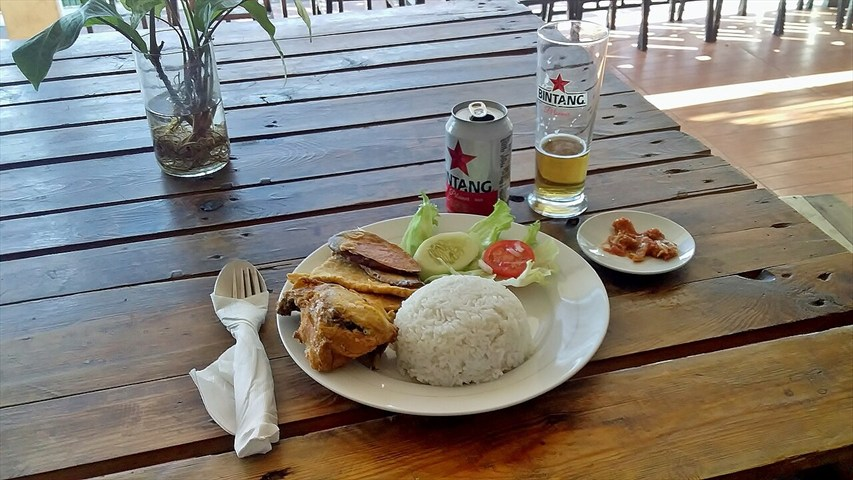Ayam Goreng: (34, 10, 782, 461)
